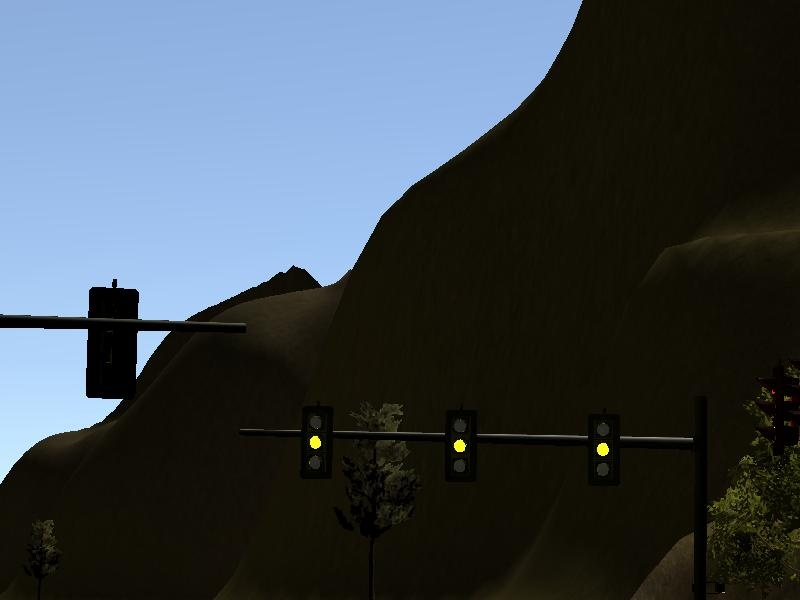yellow: (446, 410, 477, 482), (303, 408, 331, 480), (590, 415, 618, 484)
